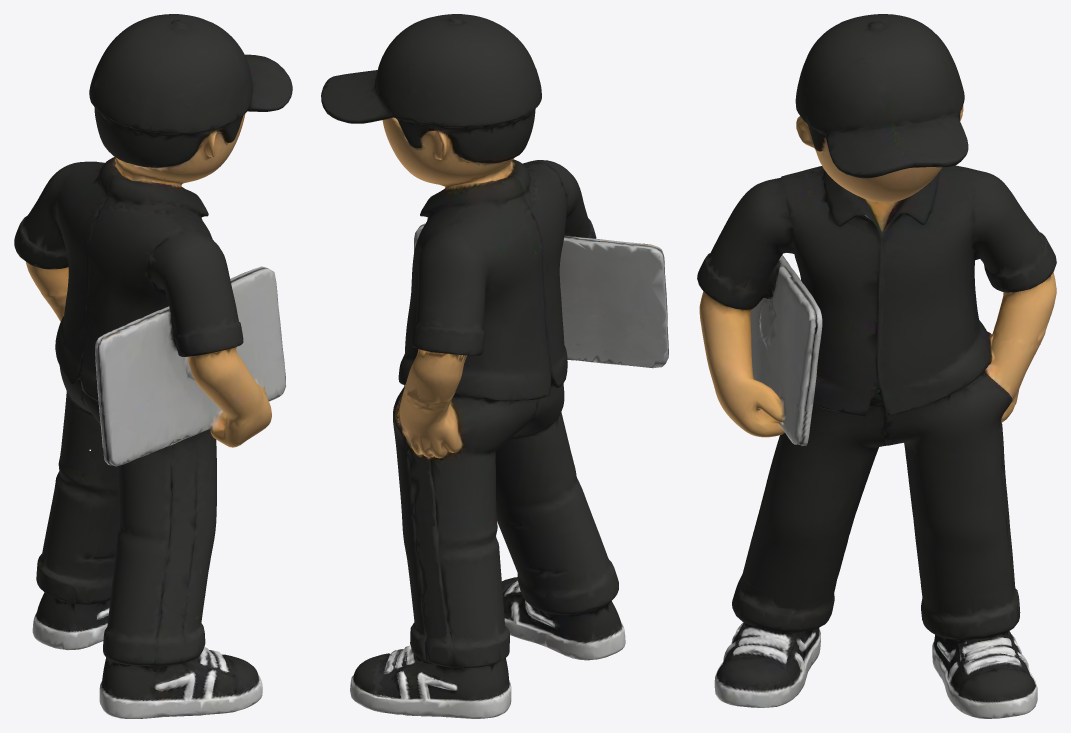
Rendered from worker.glb.
The picture shows the model from 3 angles, left to right: view 1: azimuth 30°, elevation 25°; view 2: azimuth 150°, elevation 25°; view 3: azimuth 270°, elevation 25°; orthographic projection. The views are drawn at different scales.
Parts seen in each view (by area): view 1: tripo_node_3d41ad6e-cb3c-41bd-9d7c-811e1b3ef6f4; view 2: tripo_node_3d41ad6e-cb3c-41bd-9d7c-811e1b3ef6f4; view 3: tripo_node_3d41ad6e-cb3c-41bd-9d7c-811e1b3ef6f4.
Boxes of the visible parts, x1,y1,x2,y2 form: tripo_node_3d41ad6e-cb3c-41bd-9d7c-811e1b3ef6f4: (14, 14, 292, 718); tripo_node_3d41ad6e-cb3c-41bd-9d7c-811e1b3ef6f4: (321, 14, 668, 718); tripo_node_3d41ad6e-cb3c-41bd-9d7c-811e1b3ef6f4: (697, 14, 1056, 718).
Size of the model in its own units: 0.4257 by 0.9992 by 0.4808.
1 material, 1 textured.
